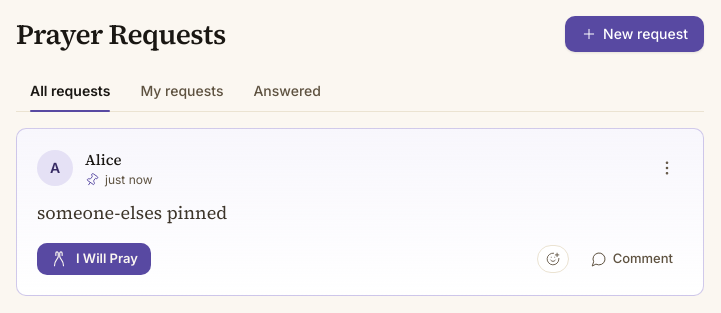
Test: FeedPage › shows the empty state under My Requests when the only pinned post is not mine
Check: the text "someone-elses pinned" is shown, box [37,200,227,224]
Check: the text "nothing on the wall yet" is not shown
Click the tab "My requests" at (182, 91), box [126,71,238,111]
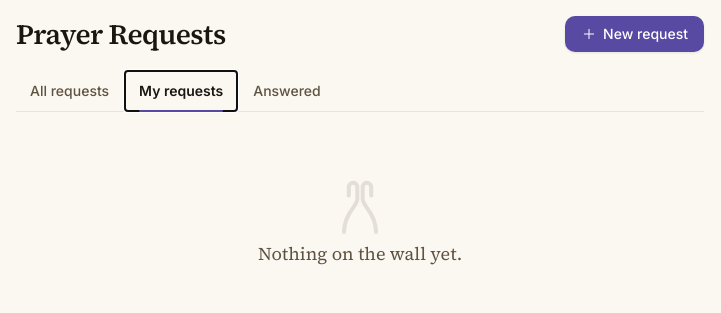
Check: the text "Nothing on the wall yet." is shown, box [258,240,462,267]
